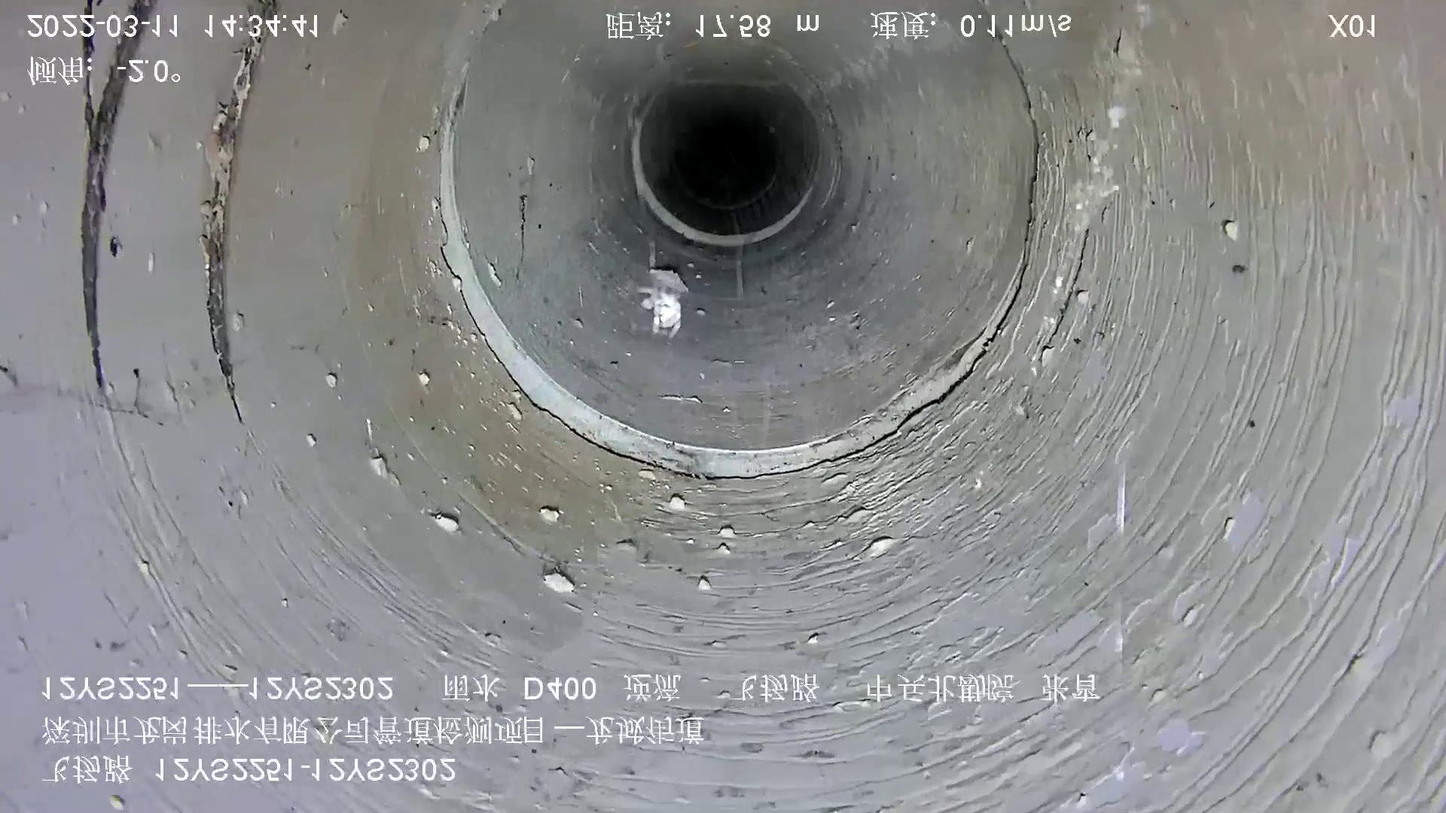CKTJ: (437, 62, 1020, 479), (632, 120, 812, 248)
